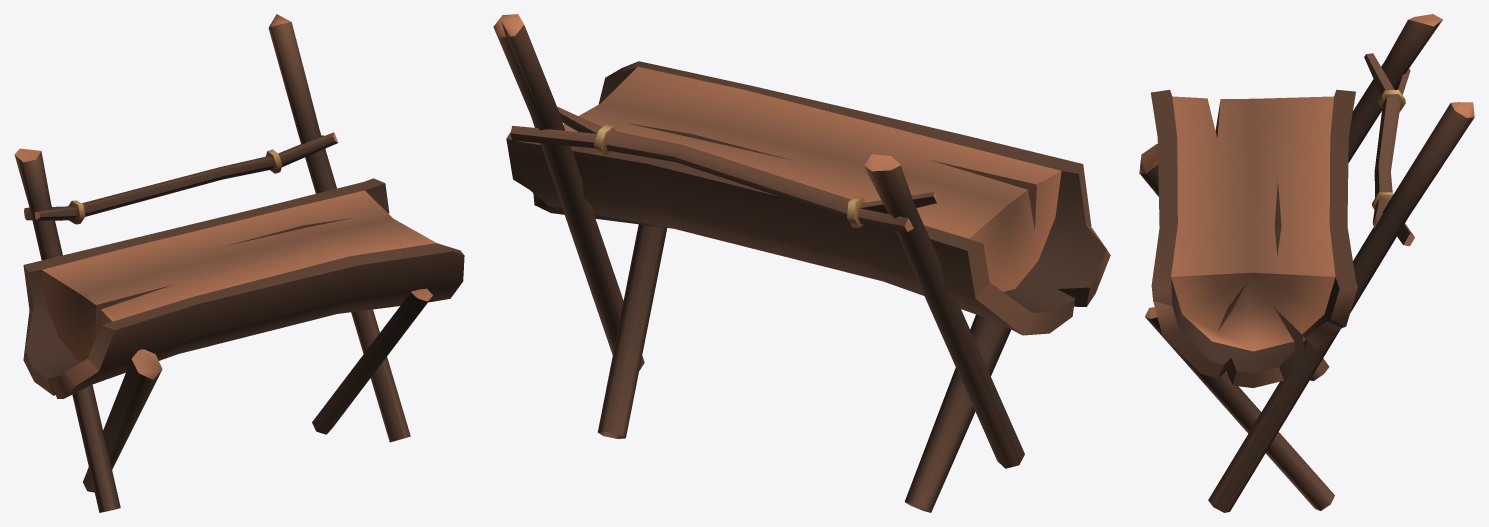
File: Table_1A.fbx
3 views of the same model, side by side, from view 1: azimuth 30°, elevation 25°; view 2: azimuth 150°, elevation 25°; view 3: azimuth 270°, elevation 25° (orthographic). The views are drawn at different scales.
Parts seen in each view (by area): view 1: Table_1A; view 2: Table_1A; view 3: Table_1A.
Part boxes in pixels (x1=…): Table_1A: x1=14, y1=14, x2=464, y2=512; Table_1A: x1=493, y1=14, x2=1110, y2=512; Table_1A: x1=1139, y1=14, x2=1474, y2=512.
Size of the model in its own units: 234 by 206 by 150.
